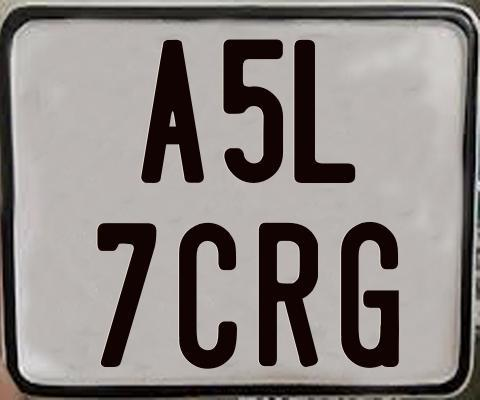5: (223, 39, 289, 187)
7: (94, 222, 155, 366)
A: (139, 38, 208, 183)
C: (178, 221, 242, 369)
G: (340, 222, 401, 372)
L: (291, 39, 358, 187)
R: (259, 222, 322, 372)
